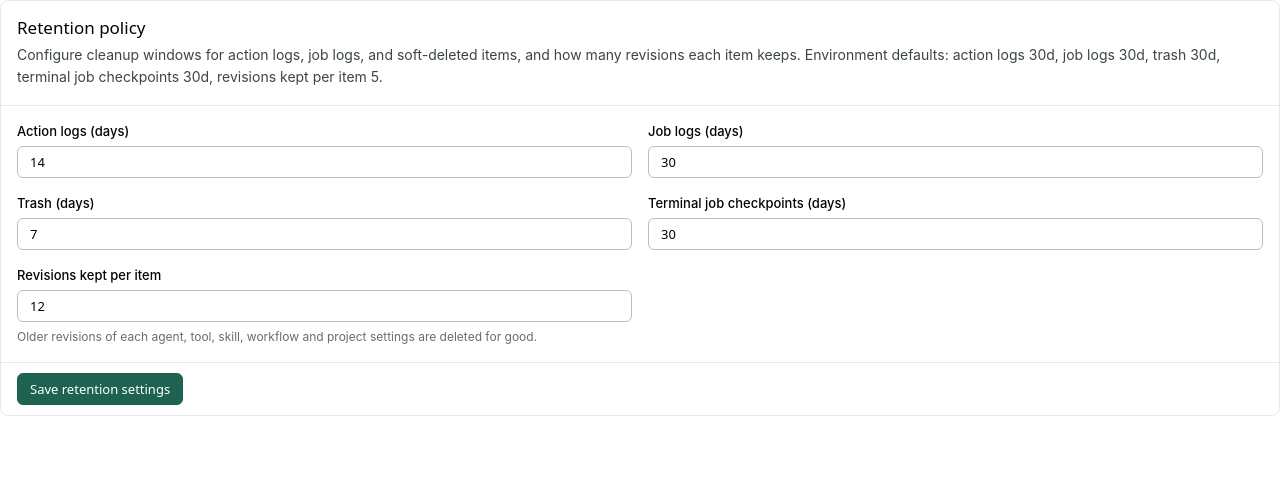
Scenario: SettingsRetentionPage › refuses a revision count of zero
Step 1. Replace the text in the number field labelled "Revisions kept per item" with "0" → (324, 306), box [17,290,632,322]
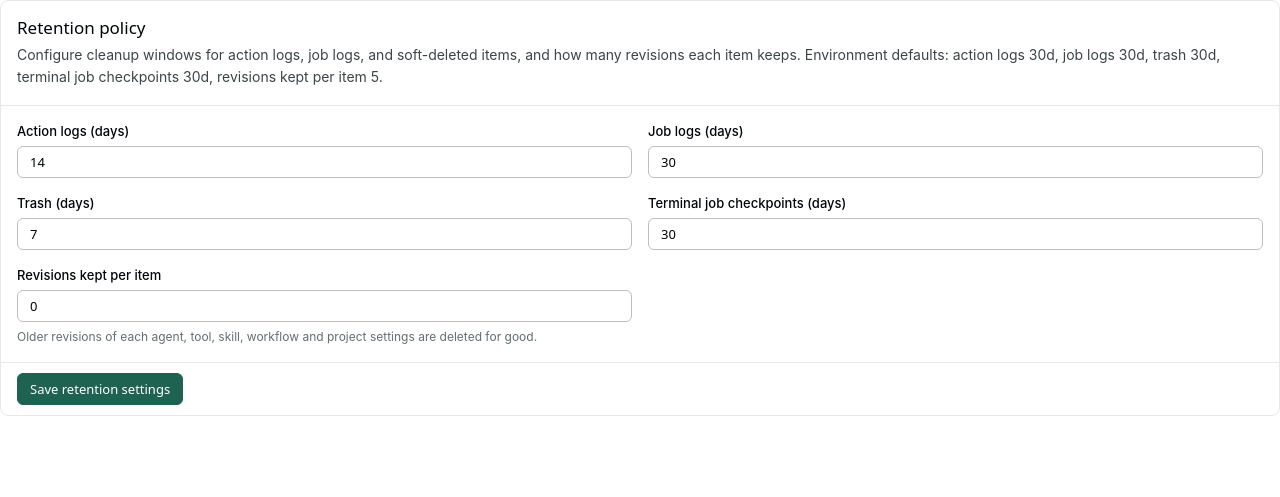
Step 2. Click the button "Save retention settings" → (100, 389), box [17,373,183,405]
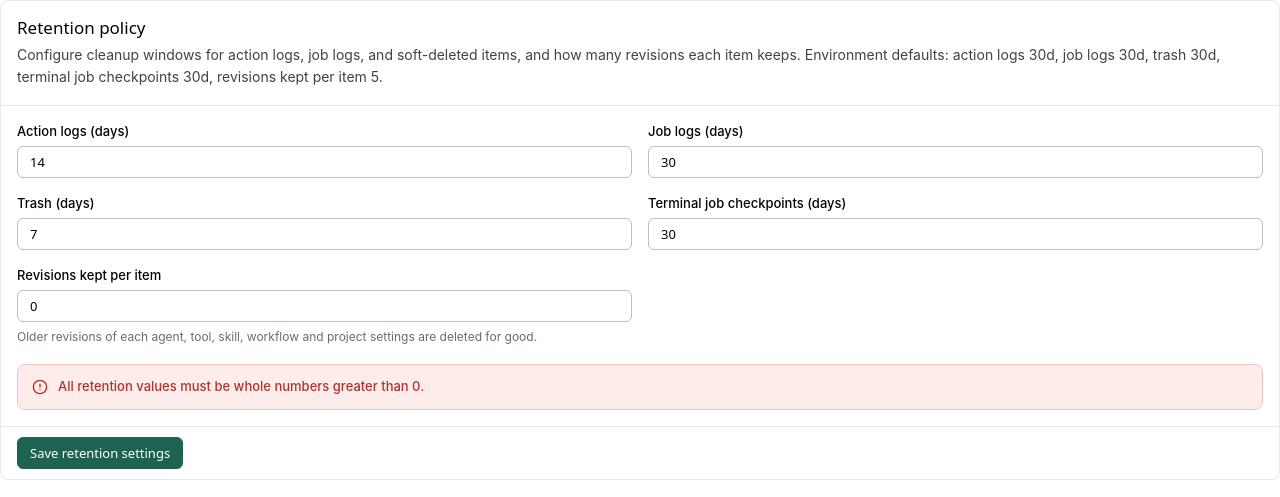
Expected: the text "All retention values must be whole numbers greater than 0." is shown, [58,378,424,394]
